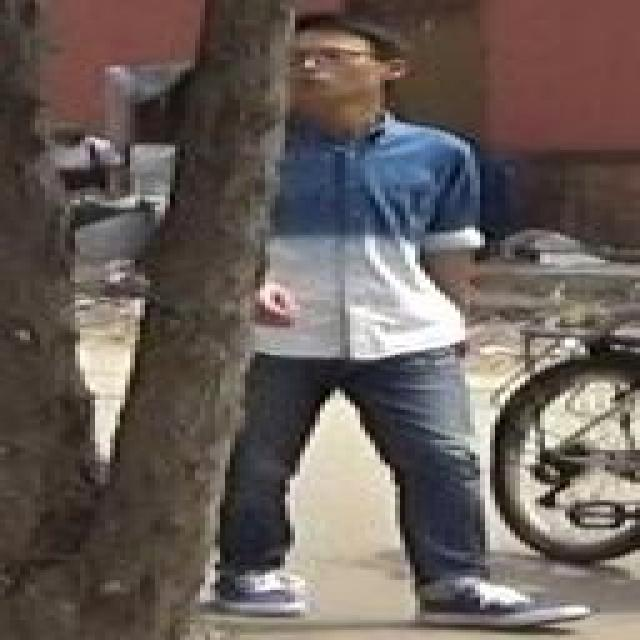adult: (189, 17, 585, 630)
